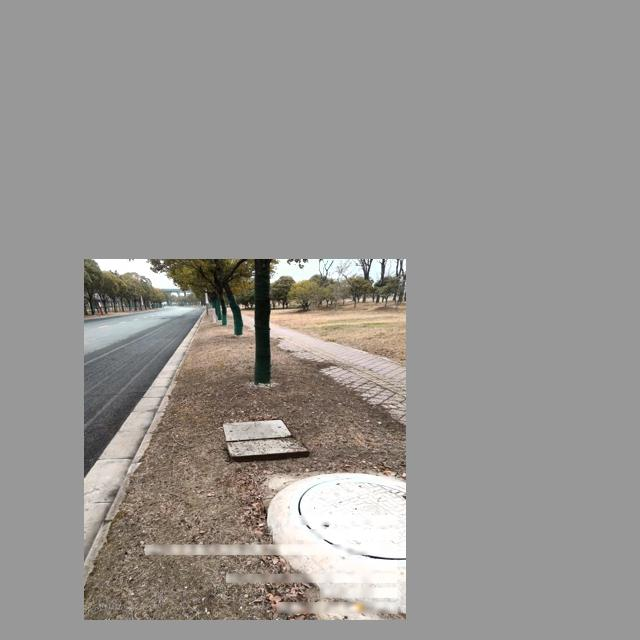good: (293, 477, 406, 562)
uncovered: (222, 418, 309, 460)
